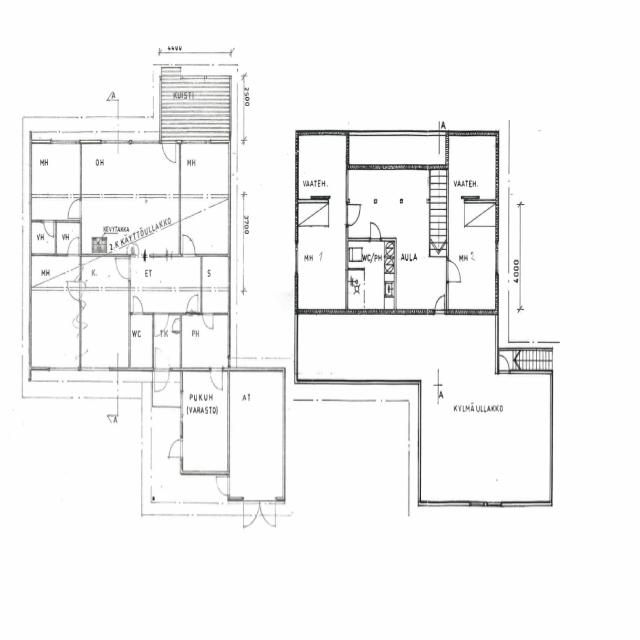door: (259, 497, 275, 526), (244, 497, 259, 526), (155, 367, 169, 395), (155, 344, 169, 371), (162, 140, 176, 166), (154, 312, 168, 337), (446, 260, 462, 281), (346, 204, 361, 225), (212, 120, 225, 144), (210, 367, 223, 391), (116, 258, 131, 278), (182, 234, 195, 257), (216, 476, 230, 495), (68, 199, 82, 218), (170, 439, 183, 456), (370, 221, 381, 241), (152, 316, 164, 334), (203, 312, 213, 332), (500, 353, 510, 373), (435, 293, 444, 314), (170, 318, 181, 334)
